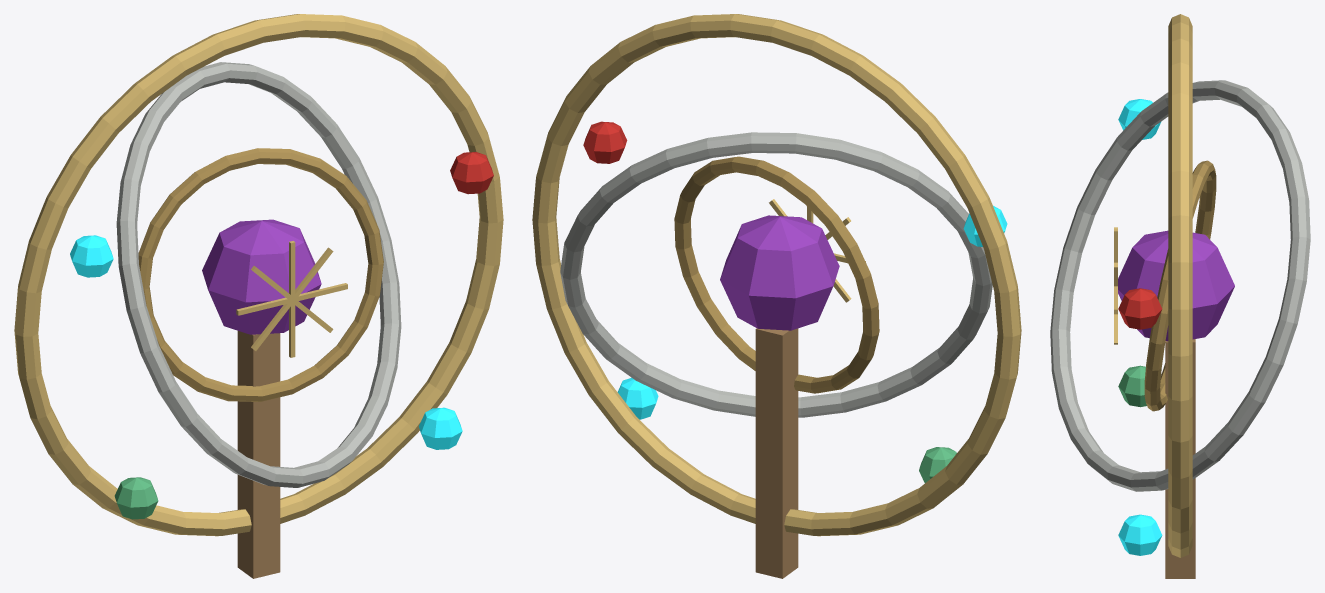
Rendered from CelestialAstrolabe.glb.
The picture shows the model from 3 angles, left to right: view 1: azimuth 30°, elevation 25°; view 2: azimuth 150°, elevation 25°; view 3: azimuth 270°, elevation 25°; orthographic projection. The views are drawn at different scales.
Visible parts, largest first — view 1: CelestialAstrolabe; view 2: CelestialAstrolabe; view 3: CelestialAstrolabe.
Boxes of the visible parts, left/top/right/bottom form: CelestialAstrolabe: left=14, top=14, right=503, bottom=578; CelestialAstrolabe: left=532, top=14, right=1021, bottom=578; CelestialAstrolabe: left=1050, top=14, right=1310, bottom=578.
Size of the model in its own units: 0.544 by 0.587 by 0.2594.
